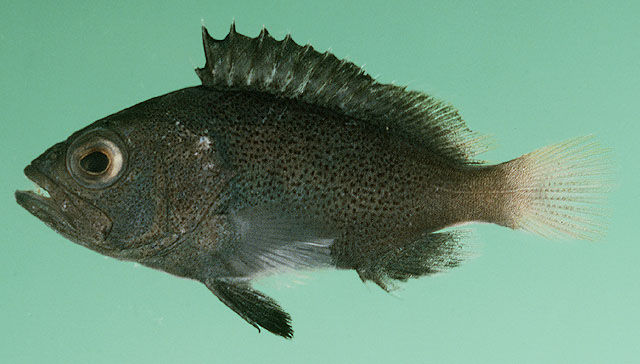fish: (15, 17, 620, 341)
